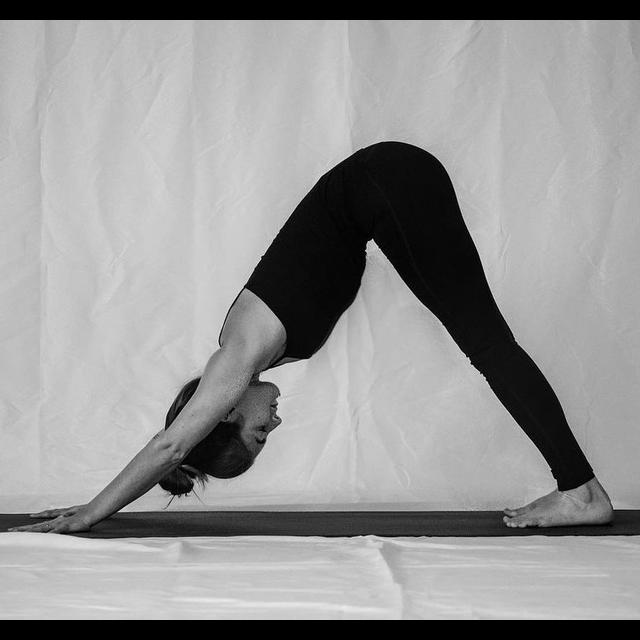Downward-Facing_Dog: (3, 135, 629, 538)
